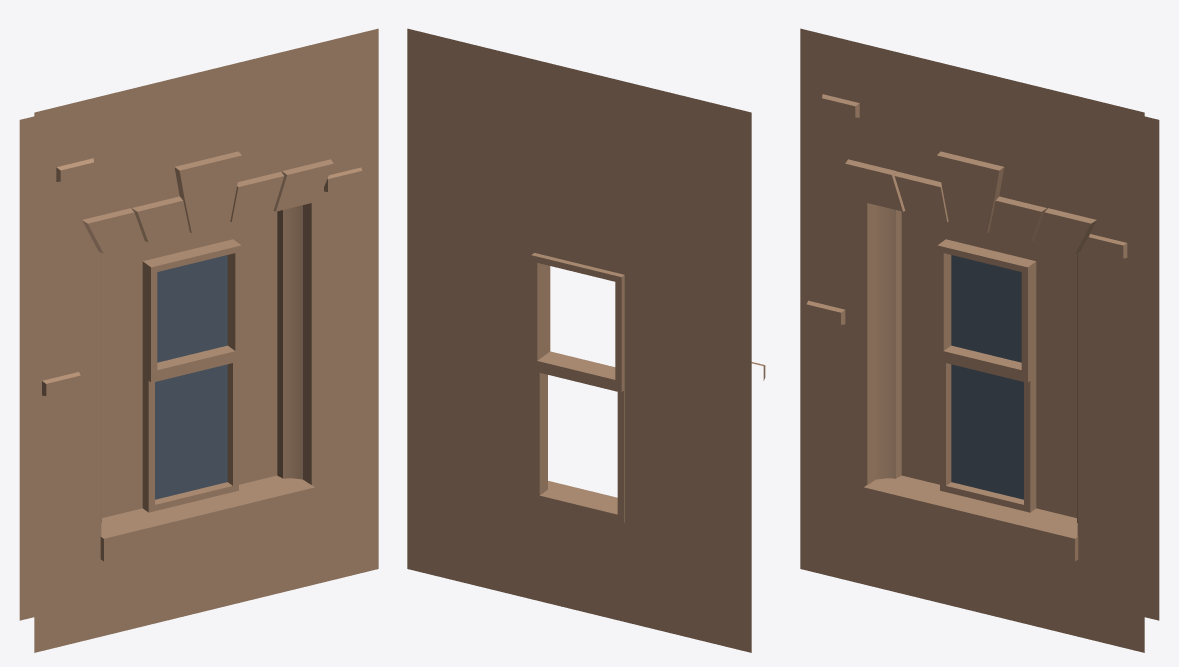
The model's file is env_block_brick_window_trim_single.glb.
3 renders of one model, left to right at view 1: azimuth 30°, elevation 25°; view 2: azimuth 150°, elevation 25°; view 3: azimuth 330°, elevation 25°, orthographic.
Visible parts, largest first — view 1: part_0, part_1; view 2: part_0; view 3: part_0, part_1.
Part boxes in pixels (x1,y1,x2,y2): part_0: (19,28,378,652); part_1: (155,255,227,499); part_0: (407,28,765,652); part_0: (800,28,1159,652); part_1: (951,255,1023,499).
Size of the model in its own units: 2 by 3 by 0.2769.
